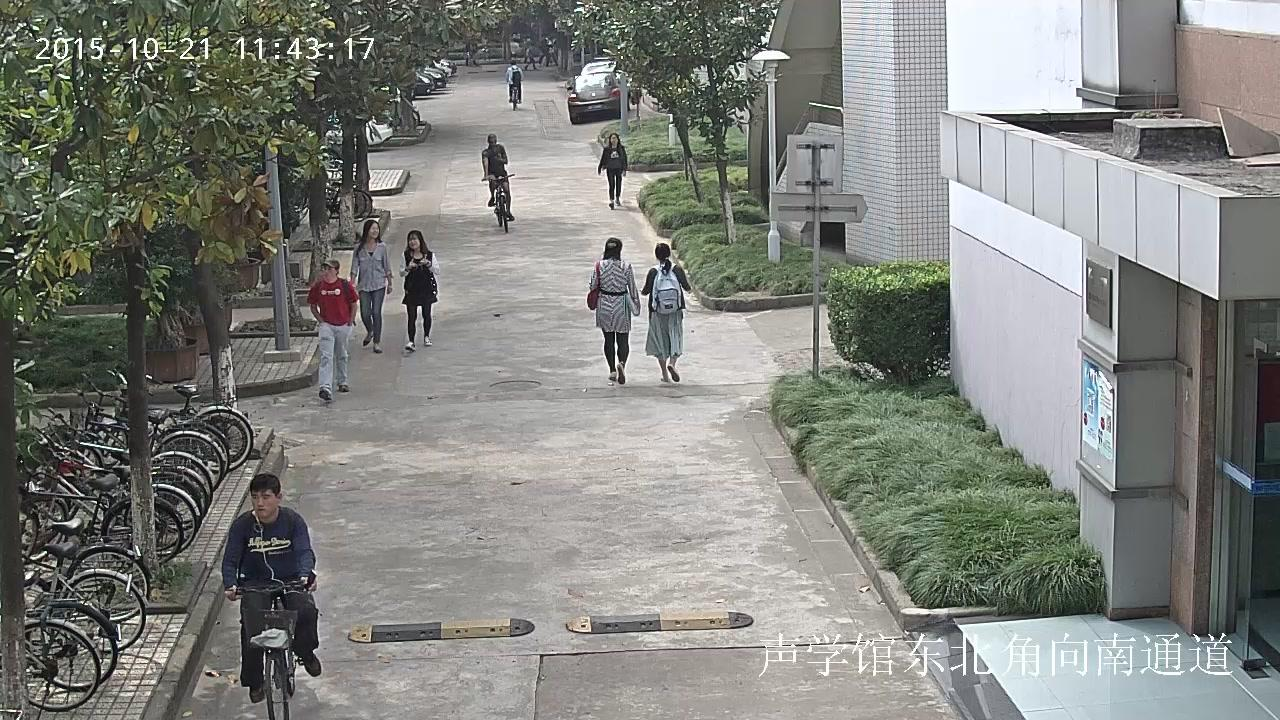face: (251, 489, 276, 517), (408, 234, 420, 249), (368, 222, 379, 238), (322, 265, 333, 279), (488, 139, 496, 147), (611, 135, 617, 144)
